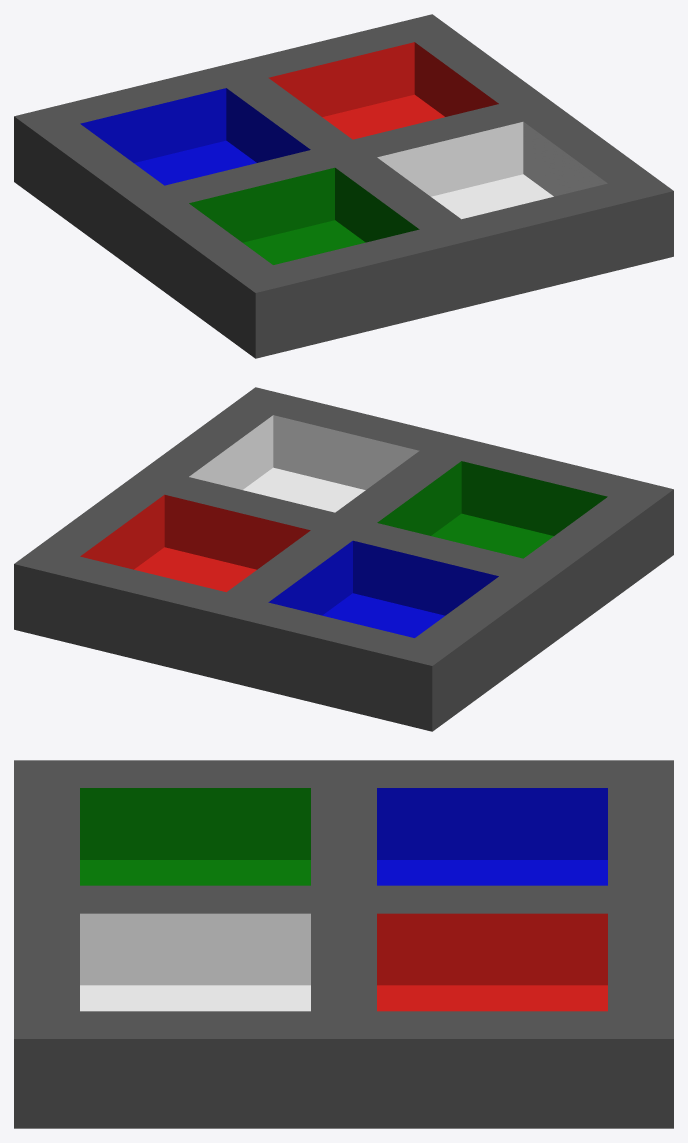
File: CubeTray.dae
3 views of the same model, one above another, from view 1: azimuth 30°, elevation 25°; view 2: azimuth 150°, elevation 25°; view 3: azimuth 270°, elevation 25° (orthographic). The views are drawn at different scales.
Visible parts, largest first — view 1: node.001; view 2: node.001; view 3: node.001.
Part boxes in pixels (left/top/right/bottom): node.001: left=14, top=14, right=673, bottom=358; node.001: left=14, top=387, right=673, bottom=731; node.001: left=14, top=760, right=673, bottom=1128.
Size of the model in its own units: 0.1 by 0.1 by 0.015.
